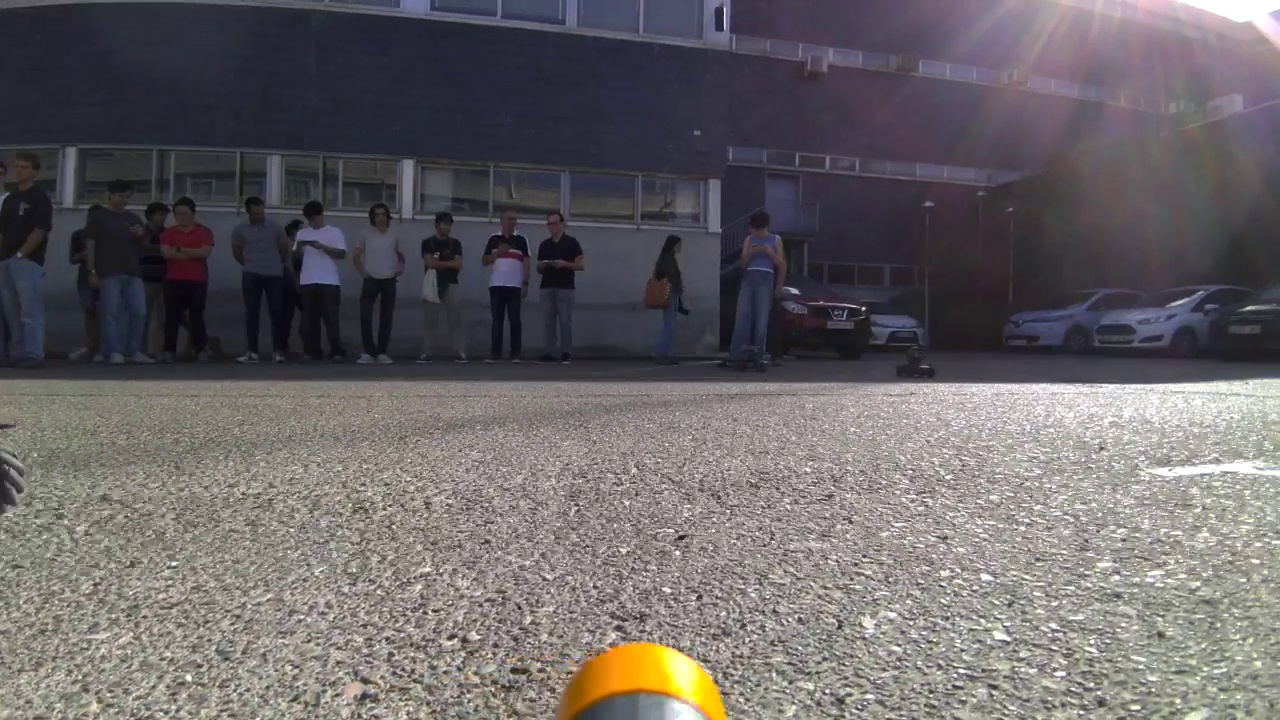robot: (886, 338, 947, 387), (733, 345, 771, 373)
